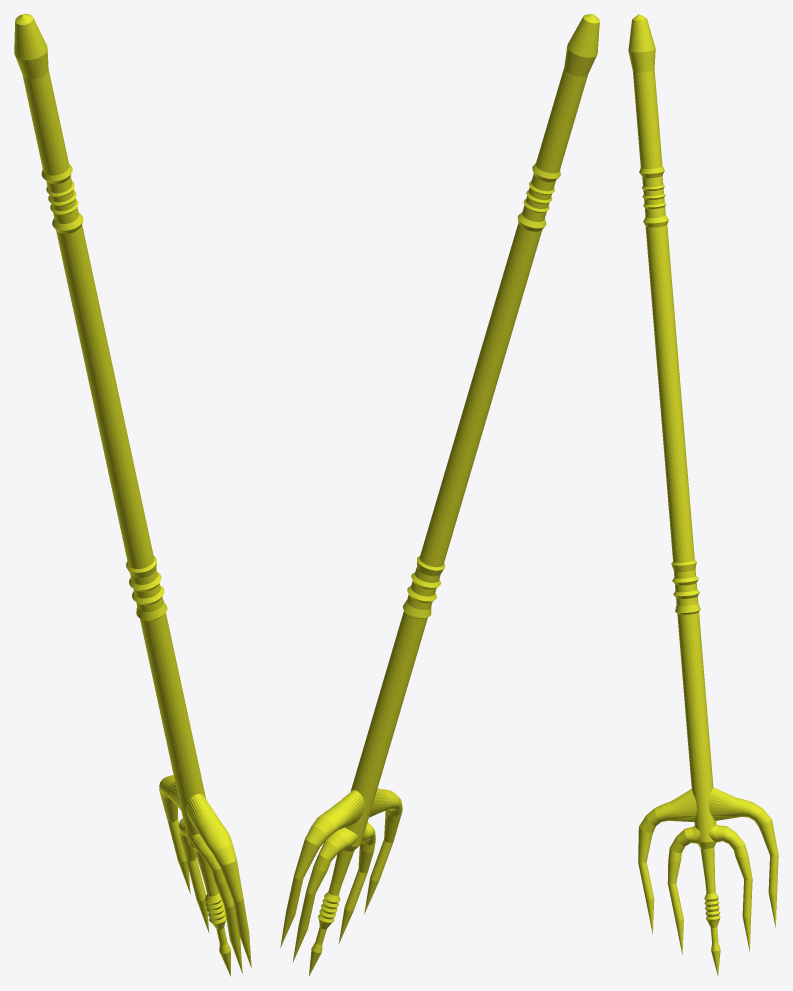
The model's file is trident.dae.
3 renders of one model, left to right at view 1: azimuth 30°, elevation 25°; view 2: azimuth 150°, elevation 25°; view 3: azimuth 270°, elevation 25°, orthographic. The views are drawn at different scales.
Visible parts, largest first — view 1: trident; view 2: trident; view 3: trident.
Part boxes in pixels (box(x1,y1,x2,y2)): trident: box(14, 14, 251, 976); trident: box(280, 14, 599, 975); trident: box(628, 14, 778, 975).
Bounding box in the file's own units: 3.27 × 1.99 × 12.6.
